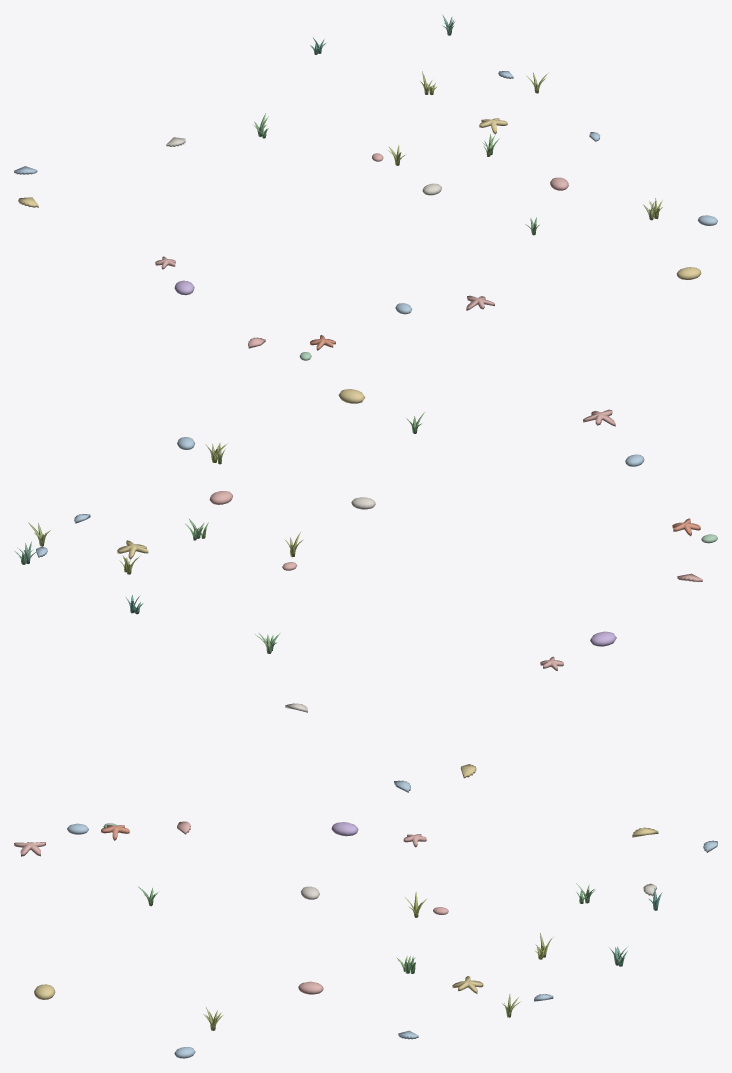
The model's file is W2_FloraRing_8_10.fbx.
The picture shows the model from 3 angles, top to bottom: view 1: azimuth 30°, elevation 25°; view 2: azimuth 150°, elevation 25°; view 3: azimuth 270°, elevation 25°; orthographic projection. The views are drawn at different scales.
Parts seen in each view (by area): view 1: W2_FloraRing_8_10; view 2: W2_FloraRing_8_10; view 3: W2_FloraRing_8_10.
Boxes of the visible parts, x1,y1,x2,y2 form: W2_FloraRing_8_10: [14, 15, 717, 360]; W2_FloraRing_8_10: [14, 389, 717, 792]; W2_FloraRing_8_10: [14, 821, 717, 1058].
Size of the model in its own units: 3.29 by 0.6303 by 3.86.
